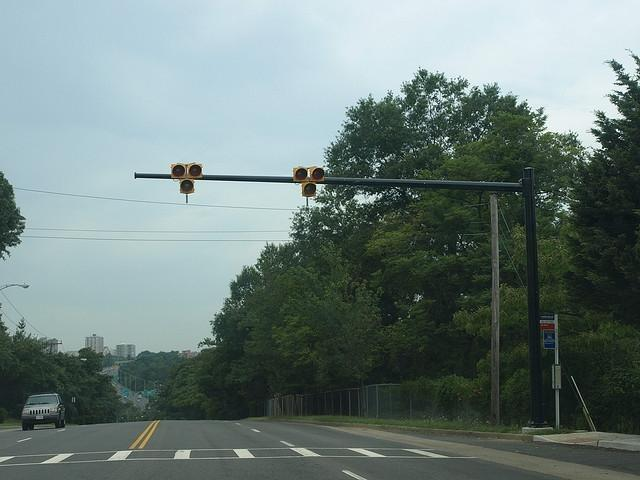car: (21, 392, 66, 430)
